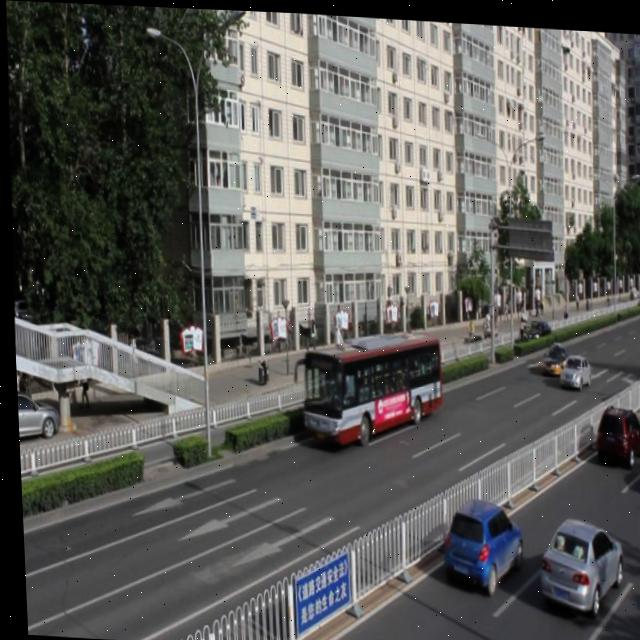car: (528, 505, 619, 609), (436, 493, 518, 585), (589, 397, 640, 457), (553, 347, 586, 383), (536, 335, 567, 372)
van: (298, 322, 438, 443)
